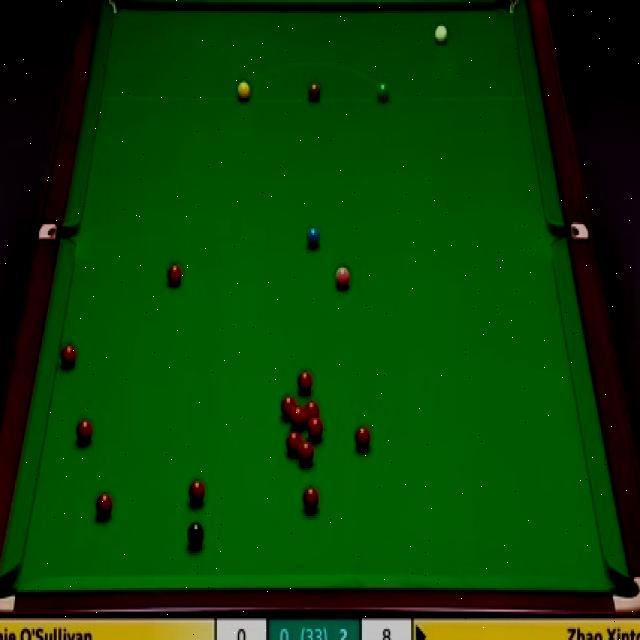black-ball: (187, 522, 205, 552)
blue-ball: (306, 224, 321, 249)
brown-ball: (308, 79, 321, 102)
green-ball: (376, 83, 390, 104)
pink-ball: (336, 265, 350, 289)
red-ball: (353, 424, 373, 454), (94, 491, 114, 520), (58, 344, 76, 372), (76, 416, 93, 445), (302, 484, 319, 513), (189, 479, 206, 505), (286, 430, 301, 457), (297, 370, 312, 396), (280, 394, 295, 420), (299, 442, 314, 468), (167, 262, 182, 285), (308, 418, 323, 441), (305, 402, 319, 423), (290, 406, 304, 426)
white-ball: (433, 21, 450, 49)
yellow-ball: (237, 81, 250, 103)
